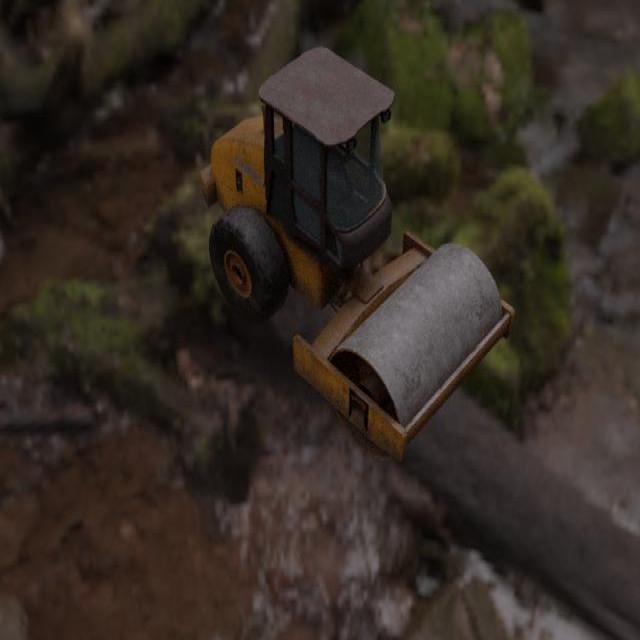Roller: (199, 47, 515, 461)
